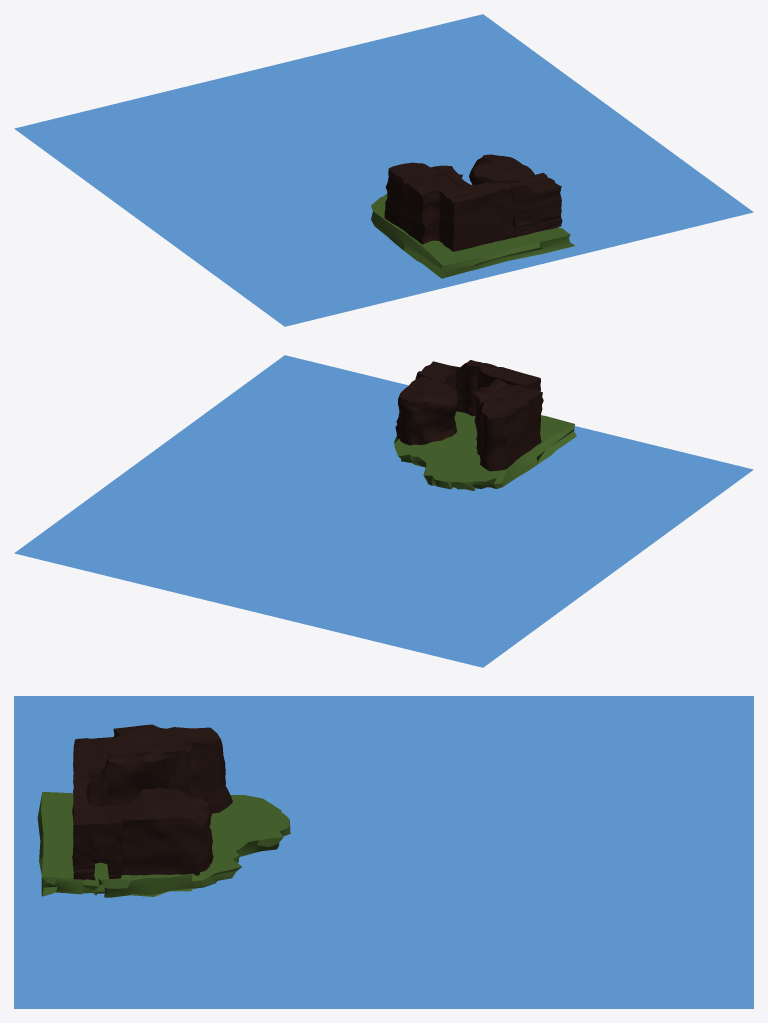
The model's file is Playa.fbx.
The picture shows the model from 3 angles, top to bottom: view 1: azimuth 30°, elevation 25°; view 2: azimuth 150°, elevation 25°; view 3: azimuth 270°, elevation 25°; orthographic projection. The views are drawn at different scales.
Parts seen in each view (by area): view 1: pPlane1, Cube, SecB, SecA, SecD, SecC; view 2: pPlane1, Cube, SecA, SecC, SecD, SecB; view 3: pPlane1, Cube, SecA, SecC, SecD, SecB.
Boxes of the visible parts, x1,y1,x2,y2 form: pPlane1: (14,14,753,326); Cube: (371,194,574,278); SecB: (439,182,515,251); SecA: (384,162,471,244); SecD: (508,173,562,237); SecC: (469,154,534,184); pPlane1: (14,355,753,667); Cube: (394,411,576,490); SecA: (473,379,543,471); SecC: (395,376,458,445); SecD: (415,360,480,416); SecB: (477,362,540,425); pPlane1: (14,696,753,1008); Cube: (37,791,290,897); SecA: (106,724,232,813); SecC: (121,787,213,875); SecD: (72,777,125,880); SecB: (73,737,113,806).
Size of what is drawn, in the model's own units: 47393 by 8221 by 47393.
